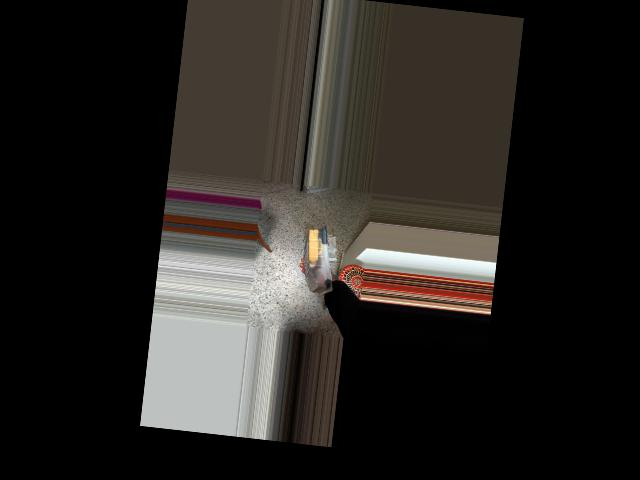cheese: (298, 225, 341, 298)
